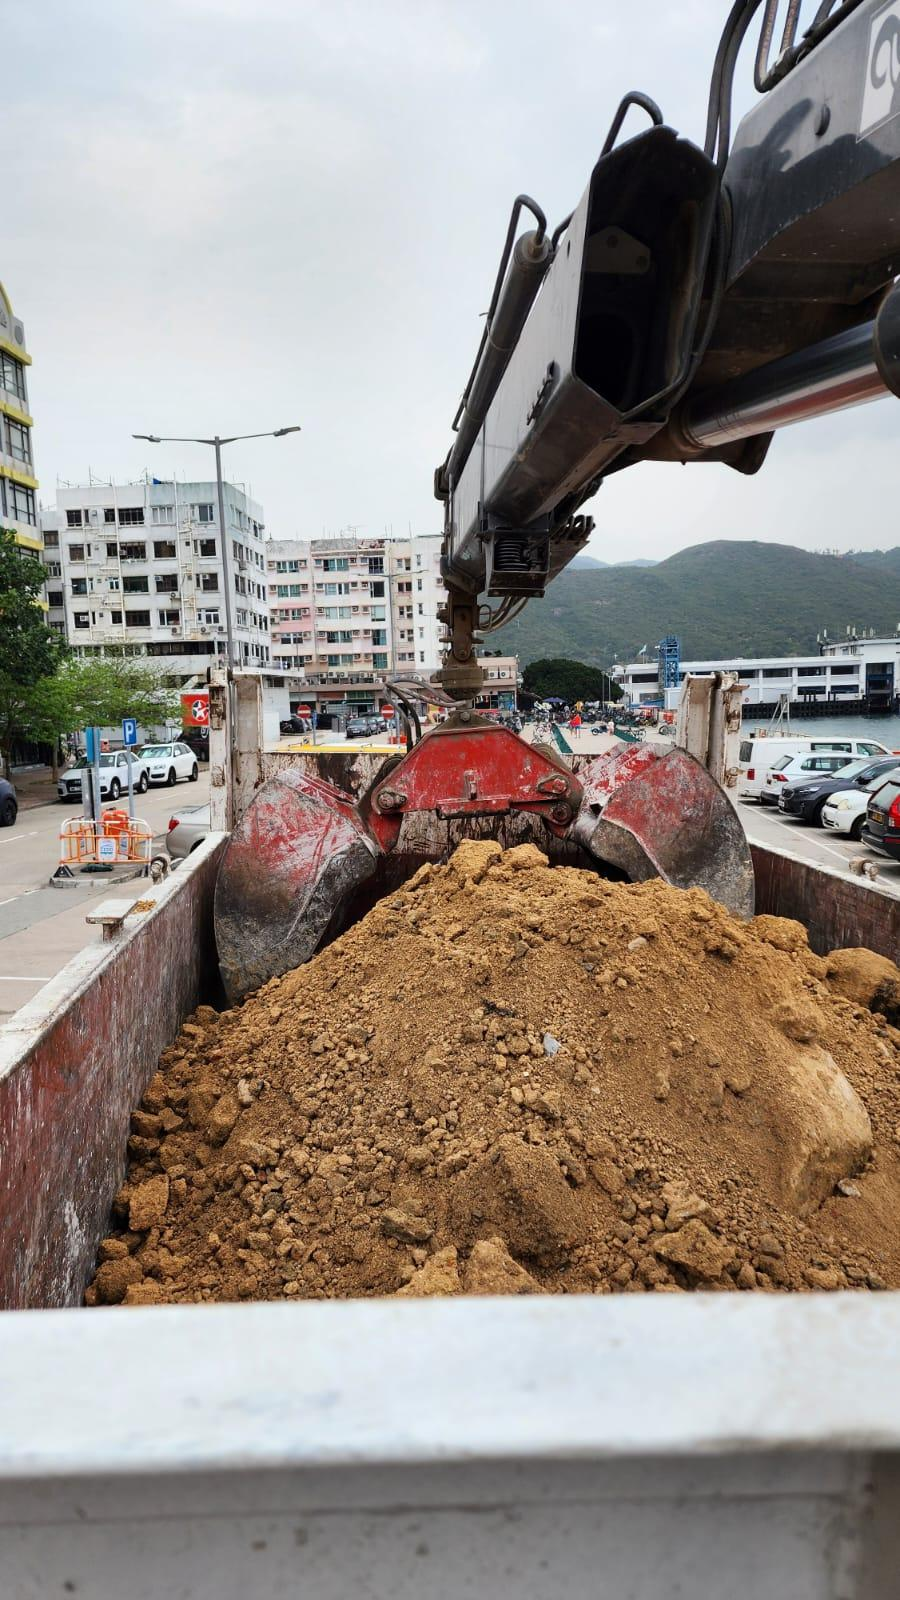dry: (118, 848, 900, 1305)
